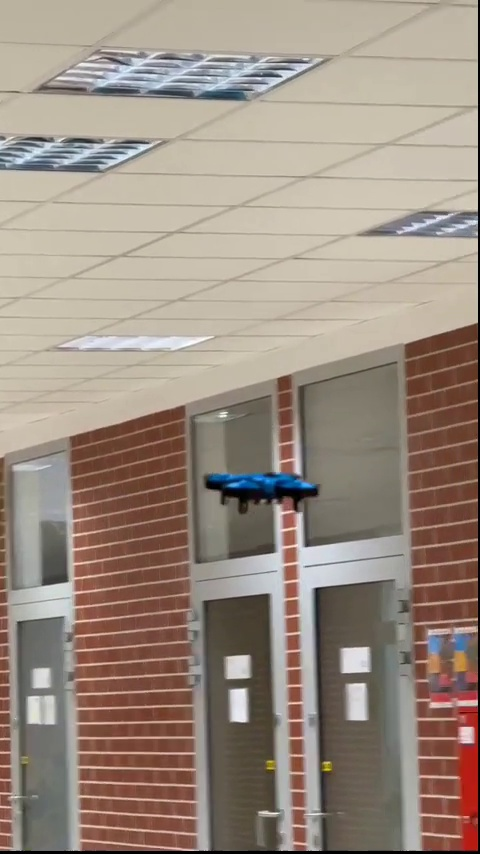drone: (198, 467, 311, 514)
